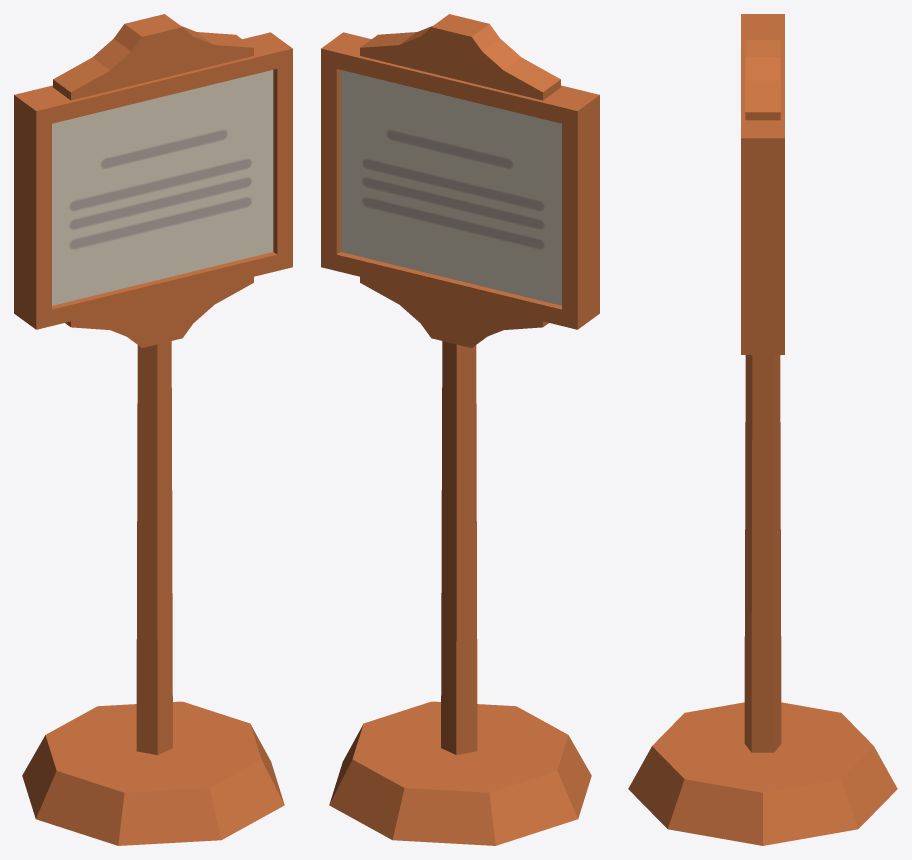
File: SeatSign_geo.fbx
3 renders of one model, left to right at view 1: azimuth 30°, elevation 25°; view 2: azimuth 150°, elevation 25°; view 3: azimuth 270°, elevation 25°, orthographic.
Parts seen in each view (by area): view 1: SeatSign_geo; view 2: SeatSign_geo; view 3: SeatSign_geo.
Boxes of the visible parts, box(x1,y1,x2,y2) form: SeatSign_geo: box(14, 14, 292, 845); SeatSign_geo: box(321, 14, 599, 845); SeatSign_geo: box(628, 14, 897, 845).
Size of the model in its own units: 0.4708 by 0.432 by 1.34.
